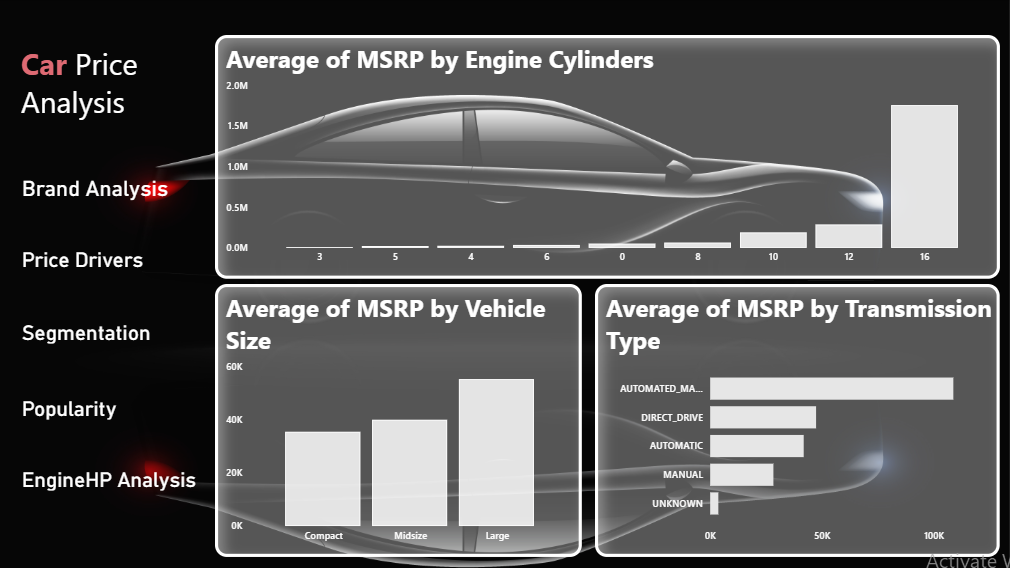

The dashboard page shown, as its layout file describes it:
{"tool":"powerbi","page":{"name":"Price Drivers & Feature Analysis","canvas":[1280,720],"ordinal":0},"visuals":[{"type":"textbox","box":[0,0,273.1,720.4],"z":0},{"type":"actionButton","title":"Brand Analysis","box":[27.4,222.3,226.4,64.5],"z":1000},{"type":"actionButton","title":"Price Drivers","box":[27.4,312.9,164.7,65.9],"z":2000},{"type":"actionButton","title":"Segmentation","box":[27.4,406.2,183.9,70],"z":3000},{"type":"clusteredColumnChart","fields":{"Category":["Sheet1 (2).Vehicle Size"],"Y":["Avg(Sheet1 (2).MSRP)"]},"box":[273.1,359.5,465.2,345.8],"z":4000},{"type":"clusteredBarChart","fields":{"Category":["Sheet1 (2).Transmission Type"],"Y":["Avg(Sheet1 (2).MSRP)"]},"box":[754.7,359.5,513.2,345.8],"z":5000},{"type":"clusteredColumnChart","fields":{"Y":["Avg(Sheet1 (2).MSRP)"],"Category":["Sheet1 (2).Engine Cylinders"]},"box":[273.1,43.9,994.9,308.7],"z":6000},{"type":"textbox","box":[22,49.4,172.9,131.7],"z":7000},{"type":"actionButton","title":"Popularity","box":[27.4,502.2,138.6,63.1],"z":8000},{"type":"actionButton","title":"EngineHP Analysis","box":[27.4,591.4,226.4,59],"z":9000}]}

Visuals, with their boxes in screenshot pixels (x1, y1, x2, y2), scaled from the page's 1280x720 canvas onto the 1010x568 screenshot:
textbox: x1=0 y1=0 x2=215 y2=567
"Brand Analysis" actionButton: x1=22 y1=175 x2=200 y2=226
"Price Drivers" actionButton: x1=22 y1=247 x2=152 y2=299
"Segmentation" actionButton: x1=22 y1=320 x2=167 y2=376
clusteredColumnChart - Sheet1 (2).Vehicle Size x Avg(Sheet1 (2).MSRP): x1=215 y1=284 x2=583 y2=556
clusteredBarChart - Sheet1 (2).Transmission Type x Avg(Sheet1 (2).MSRP): x1=596 y1=284 x2=1000 y2=556
clusteredColumnChart - Avg(Sheet1 (2).MSRP) x Sheet1 (2).Engine Cylinders: x1=215 y1=35 x2=1001 y2=278
textbox: x1=17 y1=39 x2=154 y2=143
"Popularity" actionButton: x1=22 y1=396 x2=131 y2=446
"EngineHP Analysis" actionButton: x1=22 y1=467 x2=200 y2=513
